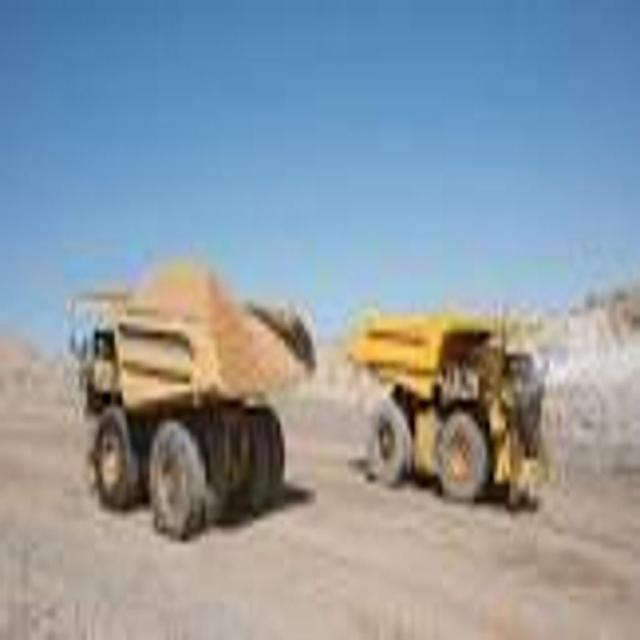dump_truck: (62, 249, 318, 538), (347, 306, 558, 535)
